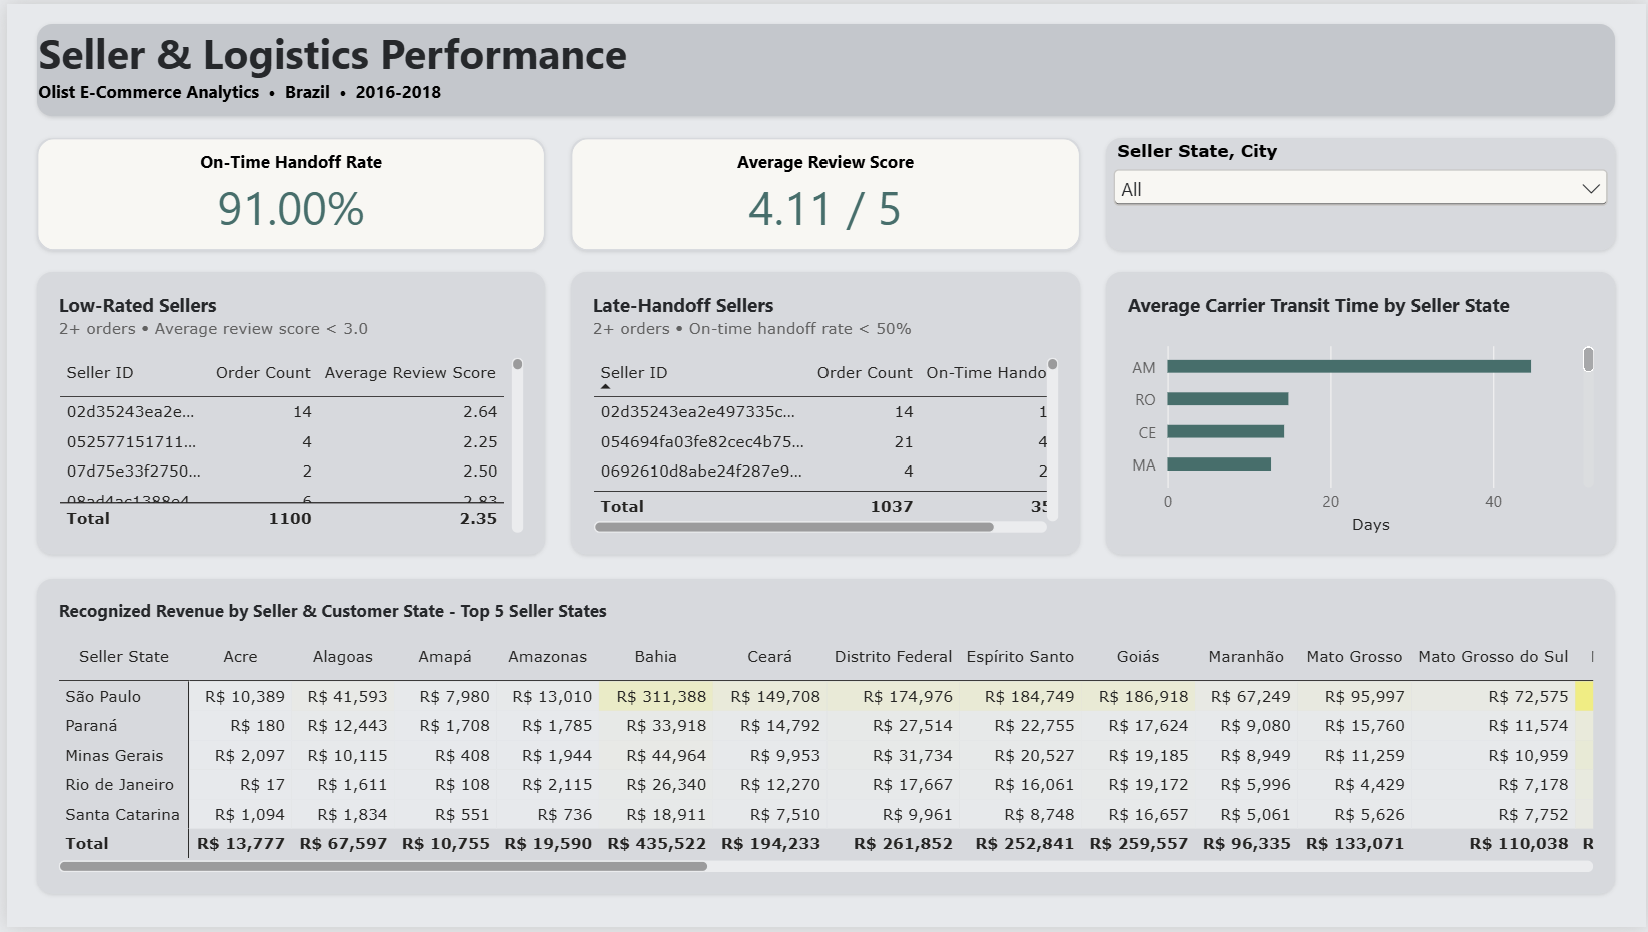

Layout of this report page (visuals, bound fields, positions):
{"tool":"powerbi","page":{"name":"Seller & Logistics Performance","canvas":[1280,720],"ordinal":3},"visuals":[{"type":"tableEx","title":"Low-Rated Sellers","fields":{"Values":["public seller_and_carrier_performance.seller_id","public seller_and_carrier_performance.order_id","public seller_and_carrier_performance.Average Review Score"]},"box":[24,210,397,220],"z":1000},{"type":"tableEx","title":"Late-Handoff Sellers","fields":{"Values":["public seller_and_carrier_performance.seller_id","public seller_and_carrier_performance.Valid Orders","public seller_and_carrier_performance.On-time Rate"]},"box":[441,210,397,220],"z":2000},{"type":"clusteredBarChart","title":"Average Carrier Transit Time by Seller State","fields":{"Category":["public seller_and_carrier_performance.seller_state"],"Y":["public seller_and_carrier_performance.Average Carrier Transit Time"]},"box":[858,210,398,220],"z":3000},{"type":"pivotTable","title":"Recognized Revenue by Seller & Customer State - Top 5 Seller States","fields":{"Rows":["public seller_and_carrier_performance.Seller State Display"],"Columns":["public seller_and_carrier_performance.Customer States Display"],"Values":["public seller_and_carrier_performance.Recognized Revenue Seller"]},"box":[24,449,1232,246],"z":4000},{"type":"cardVisual","fields":{"Data":["public seller_and_carrier_performance.On-time Rate"]},"box":[24,104,397,88],"z":5000},{"type":"cardVisual","fields":{"Data":["public seller_and_carrier_performance.Avg Review Display"]},"box":[441,104,397,88],"z":6000},{"type":"slicer","fields":{"Values":["public seller_and_carrier_performance.Seller State Display","public seller_and_carrier_performance.seller_city"]},"box":[858,104,398,88],"z":7000},{"type":"textbox","box":[24,16,1232,72],"z":50000}]}

Visuals, with their boxes in screenshot pixels (x1, y1, x2, y2), scaled from the page's 1280x720 canvas onto the 1648x932 screenshot:
"Low-Rated Sellers" tableEx: (31,272,542,557)
"Late-Handoff Sellers" tableEx: (568,272,1079,557)
"Average Carrier Transit Time by Seller State" clusteredBarChart: (1105,272,1617,557)
"Recognized Revenue by Seller & Customer State - Top 5 Seller States" pivotTable: (31,581,1617,900)
cardVisual - public seller_and_carrier_performance.On-time Rate: (31,135,542,249)
cardVisual - public seller_and_carrier_performance.Avg Review Display: (568,135,1079,249)
slicer - public seller_and_carrier_performance.Seller State Display x public seller_and_carrier_performance.seller_city: (1105,135,1617,249)
textbox: (31,21,1617,114)
